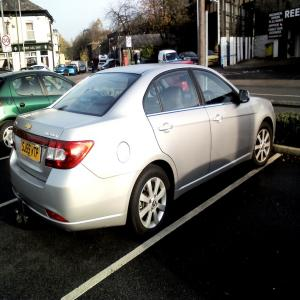Vehicle-registration-plate: (15, 139, 41, 169)
